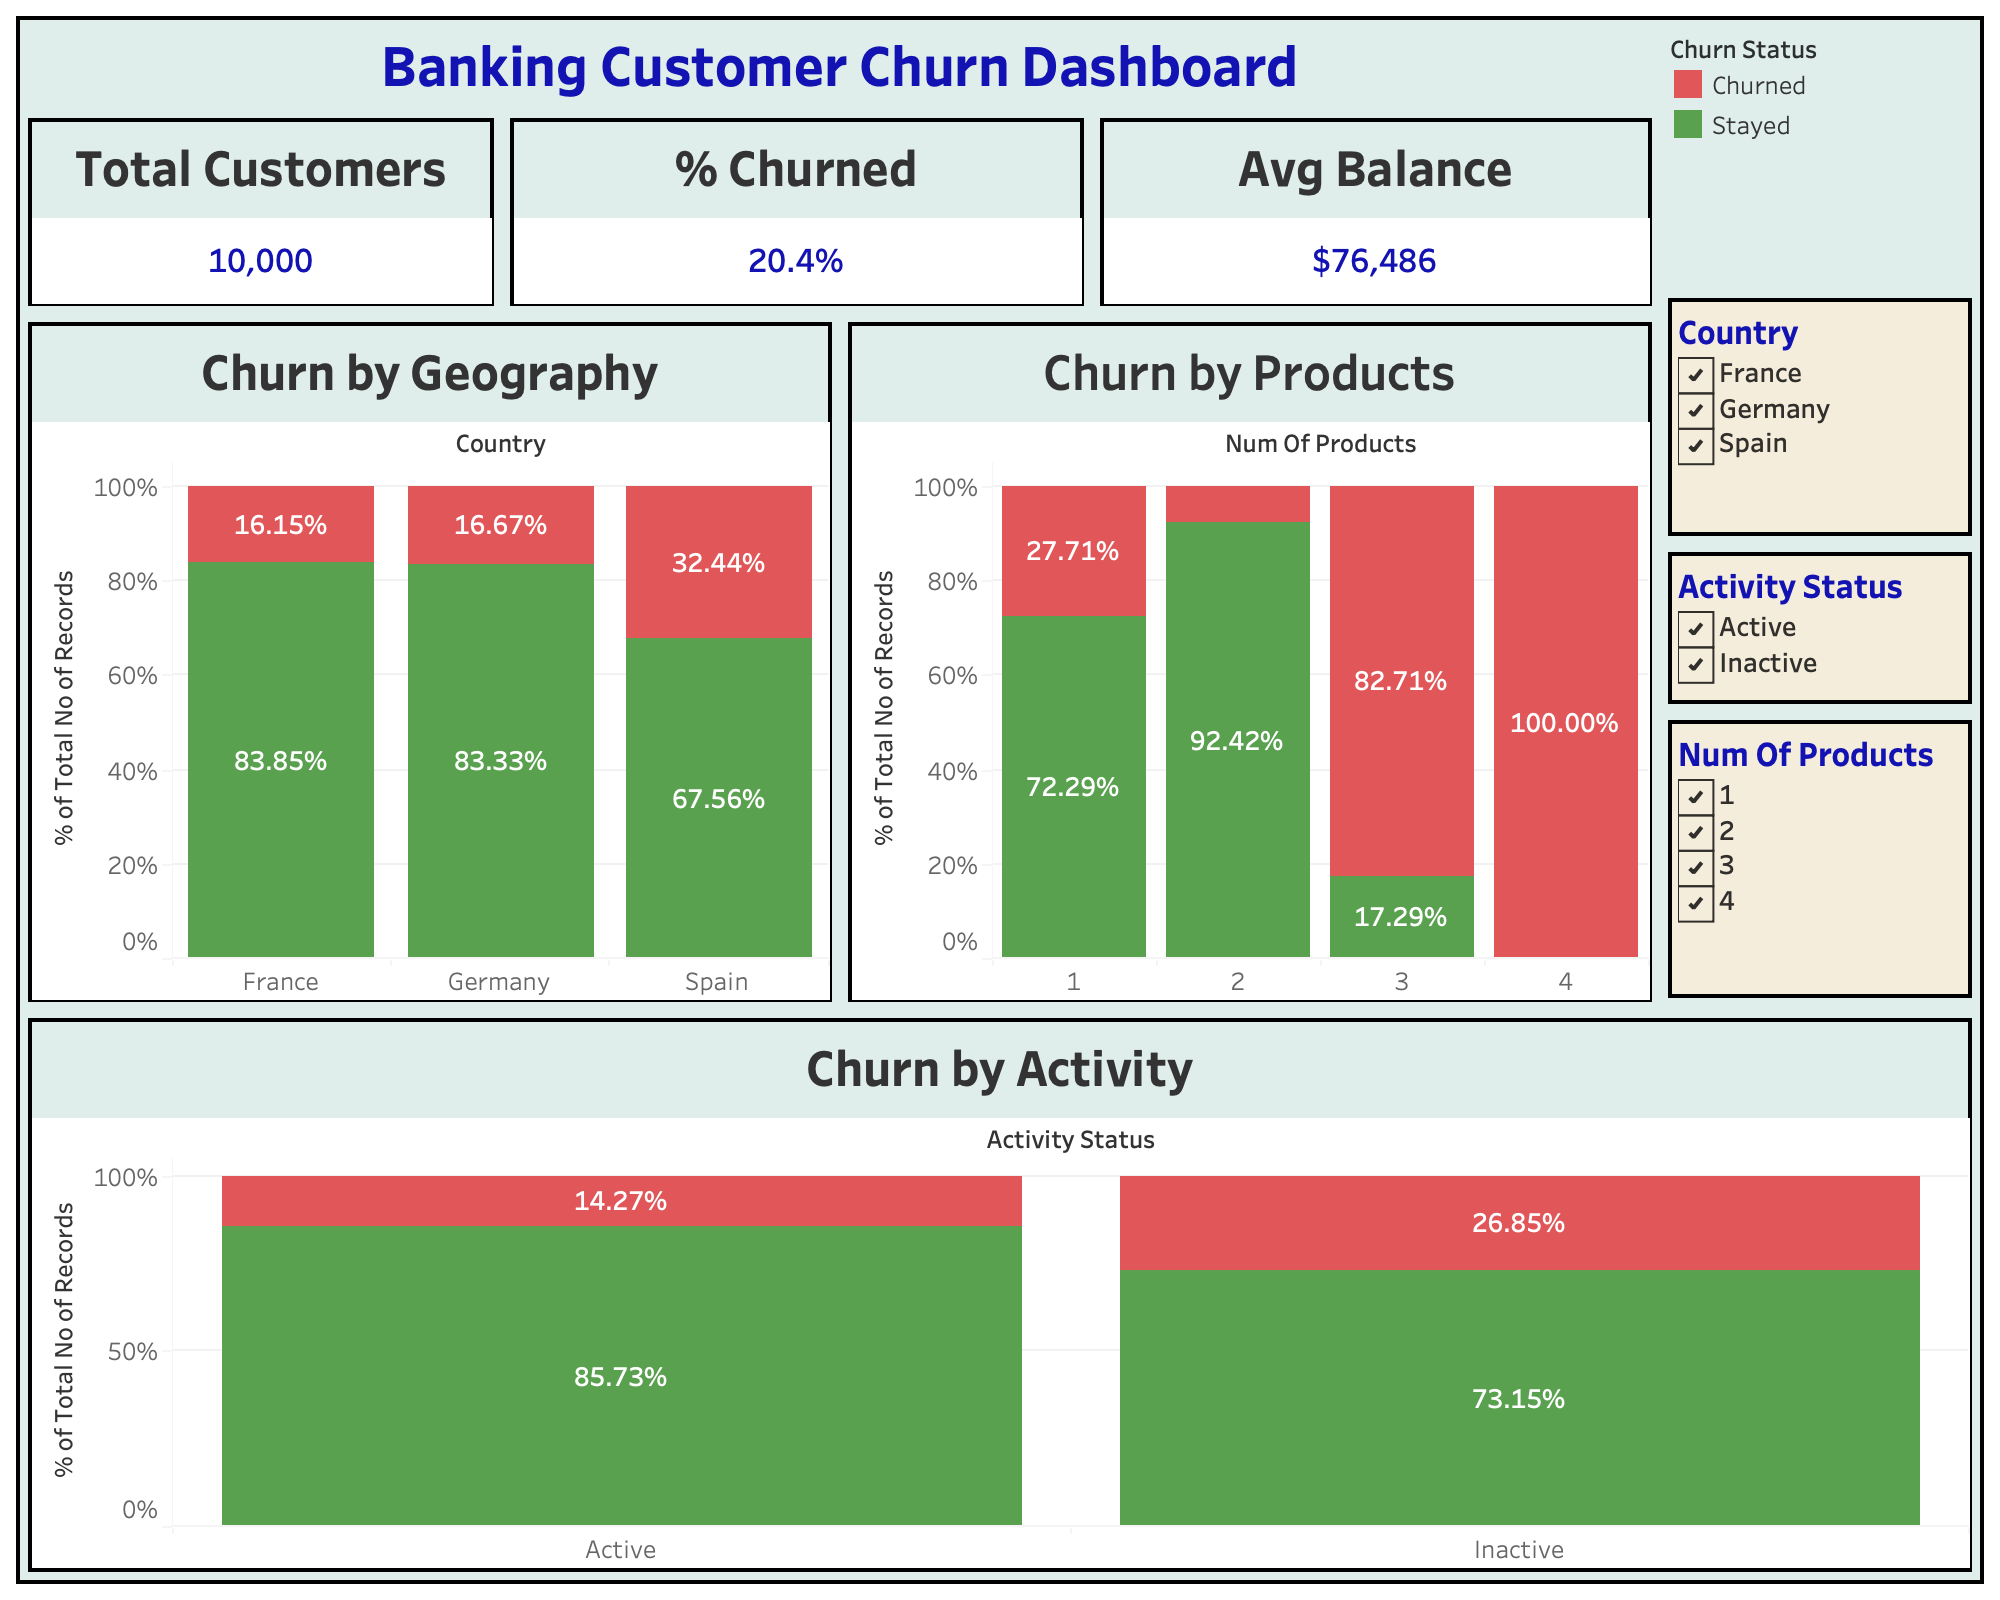

This screenshot's page, from the dashboard's own definition file:
{"tool":"tableau","page":{"name":"Banking Customer Churn Dashboard","canvas":[1000,800],"ordinal":0},"visuals":[{"type":"title","box":[10,10,820,45]},{"type":"legend","title":"Churn by Geography","param":"[federated.0f81h0u0ghtyv917a4g901df9ugq].[none:Calculation_2160109343206973442:n","box":[830,10,160,135]},{"type":"worksheet","title":"Total Customers","mark":"Automatic","box":[10,55,240.8,101.9]},{"type":"worksheet","title":"% Churned","mark":"Automatic","box":[250.8,55,295,101.9]},{"type":"worksheet","title":"Avg Balance","mark":"Automatic","box":[545.8,55,284.2,101.9]},{"type":"filter","title":"Churn by Geography","param":"[federated.0f81h0u0ghtyv917a4g901df9ugq].[none:Calculation_2160109343205658625:n","box":[830,145,160,127]},{"type":"worksheet","title":"Churn by Geography","mark":"Automatic","cols":["Calculation_2160109343205658625"],"box":[10,156.9,410,348.6]},{"type":"worksheet","title":"Churn by Products","mark":"Bar","cols":["NumOfProducts"],"box":[420,156.9,410,348.6]},{"type":"filter","title":"Churn by Activity","param":"[federated.0f81h0u0ghtyv917a4g901df9ugq].[none:Calculation_2160109343247208454:n","box":[830,272,160,84]},{"type":"filter","title":"Churn by Products","param":"[federated.0f81h0u0ghtyv917a4g901df9ugq].[none:NumOfProducts:ok]","box":[830,356,160,147]},{"type":"worksheet","title":"Churn by Activity","mark":"Automatic","cols":["Calculation_2160109343247208454"],"box":[10,505.5,980,284.5]}]}

Visuals, with their boxes in screenshot pixels (x1, y1, x2, y2), scaled from the page's 1000x800 canvas onto the 2000x1600 screenshot:
title: select_region(20, 20, 1660, 110)
"Churn by Geography" legend: select_region(1660, 20, 1980, 290)
"Total Customers" worksheet: select_region(20, 110, 502, 314)
"% Churned" worksheet: select_region(502, 110, 1092, 314)
"Avg Balance" worksheet: select_region(1092, 110, 1660, 314)
"Churn by Geography" filter: select_region(1660, 290, 1980, 544)
"Churn by Geography" worksheet: select_region(20, 314, 840, 1011)
"Churn by Products" worksheet (Bar marks): select_region(840, 314, 1660, 1011)
"Churn by Activity" filter: select_region(1660, 544, 1980, 712)
"Churn by Products" filter: select_region(1660, 712, 1980, 1006)
"Churn by Activity" worksheet: select_region(20, 1011, 1980, 1580)
